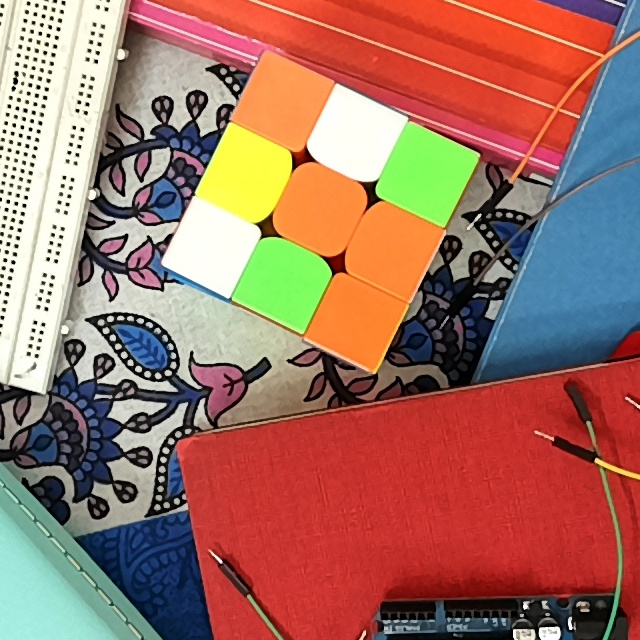tile: (291, 181, 350, 238), (362, 220, 420, 277), (398, 146, 456, 201), (254, 255, 313, 308), (326, 295, 387, 346), (255, 77, 310, 129), (327, 109, 381, 161), (221, 148, 273, 202), (184, 221, 236, 274)
